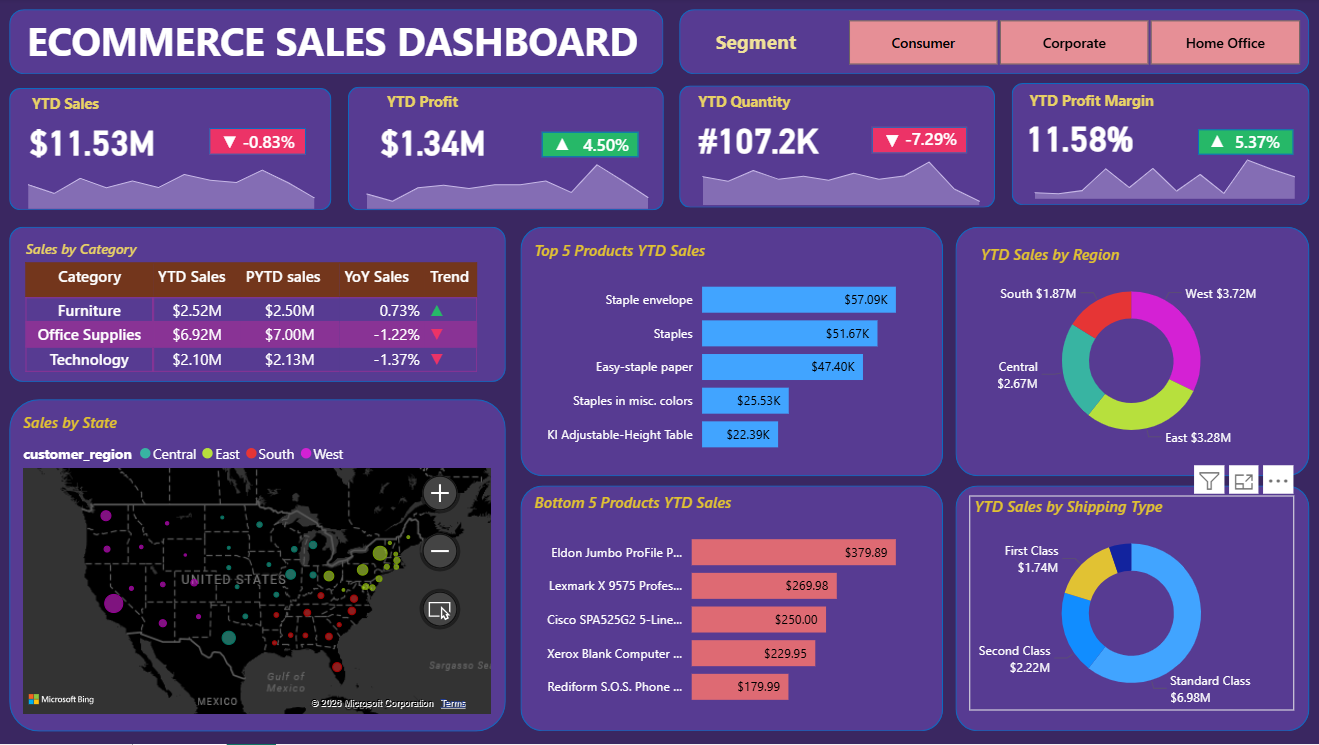

What the dashboard file says about the page in this screenshot:
{"tool":"powerbi","page":{"name":"Page 1","canvas":[1280,720],"ordinal":0},"visuals":[{"type":"shape","box":[11.1,87.2,310.8,118],"z":0},{"type":"shape","box":[11.1,11.1,631.5,62.7],"z":1000},{"type":"card","fields":{"Values":["Measures (2).YTD Sales"]},"box":[18.7,109.8,143.6,55.5],"z":2000},{"type":"textbox","box":[23.3,11.1,602,67.6],"z":3000},{"type":"areaChart","fields":{"Category":["Calender.Month"],"Y":["Sum(ecommerce_orders.sales_per_order)"]},"box":[14.7,146.2,305.9,62.7],"z":4000},{"type":"shape","box":[204,125.3,93.4,25.8],"z":5000},{"type":"card","fields":{"Values":["Measures (2).YoY Sales"]},"box":[223.6,126.6,76.2,27],"z":6000},{"type":"card","fields":{"Values":["Measures (2).Sales Icon"]},"box":[204,125.3,39.3,24.6],"z":7000},{"type":"textbox","box":[27.2,86.9,82,30.2],"z":8000},{"type":"shape","box":[337.5,86,304.7,119.2],"z":9000},{"type":"card","fields":{"Values":["Measures (2).YTD Profit"]},"box":[348.9,109.3,142.5,55.3],"z":10000},{"type":"areaChart","fields":{"Category":["Calender.Month"],"Y":["Sum(ecommerce_orders.profit_per_order)"]},"box":[341.6,146.2,301,62.7],"z":11000},{"type":"shape","box":[524.6,129,93.4,24.6],"z":12000},{"type":"card","fields":{"Values":["Measures (2).YoY Profit"]},"box":[549.2,129,76.2,27],"z":13000},{"type":"card","fields":{"Values":["Measures (2).Profit Icon"]},"box":[524.6,127.8,39.3,25.8],"z":14000},{"type":"textbox","box":[370,86.1,94.1,30.2],"z":15000},{"type":"shape","box":[657.7,84.8,304.7,118],"z":16000},{"type":"card","fields":{"Values":["Measures (2).YTD_Qty_Concat"]},"box":[662.2,108.1,143.8,55.3],"z":17000},{"type":"areaChart","fields":{"Category":["Calender.Month"],"Y":["Sum(ecommerce_orders.order_quantity)"]},"box":[665.9,142.5,296.1,62.7],"z":18000},{"type":"shape","box":[842.9,124.1,92.1,25.8],"z":19000},{"type":"card","fields":{"Values":["Measures (2).YoY Quantity"]},"box":[862.5,122.9,76.2,25.8],"z":20000},{"type":"card","fields":{"Values":["Measures (2).Quantity Icon"]},"box":[842.9,124.1,39.3,24.6],"z":21000},{"type":"textbox","box":[670.5,86.1,109.8,30.2],"z":22000},{"type":"shape","box":[978,82.3,287.5,118],"z":23000},{"type":"card","fields":{"Values":["Measures (2).YTD_profit_margin"]},"box":[972.9,105.6,143.6,55.5],"z":24000},{"type":"areaChart","fields":{"Category":["Calender.Month"],"Y":["Measures (2).Profit Margin"]},"box":[986.6,136.4,278.9,62.7],"z":25000},{"type":"shape","box":[1158.6,126.6,92.1,24.6],"z":26000},{"type":"card","fields":{"Values":["Measures (2).YoY Profit Margin"]},"box":[1177,126.6,76.2,27],"z":27000},{"type":"card","fields":{"Values":["Measures (2).Profit_Margin_Icon"]},"box":[1158.6,124.1,36.9,25.8],"z":28000},{"type":"textbox","box":[990.3,84.1,150.8,29],"z":29000},{"type":"shape","box":[11.1,221.2,479.2,149.9],"z":30000},{"type":"pivotTable","title":"Sales by Category","fields":{"Rows":["ecommerce_orders.category_name"],"Values":["Measures (2).YTD Sales","Measures (2).PYTD sales","Measures (2).YoY Sales","Measures (2).Sales Icon"]},"box":[22.1,233.4,454.6,137.6],"z":31000},{"type":"shape","box":[11.1,387,479.2,320.7],"z":32000},{"type":"map","title":"Sales by State","fields":{"Y":["us_state_long_lat.latitude"],"X":["us_state_long_lat.longitude"],"Size":["Measures (2).YTD Sales"],"Series":["ecommerce_orders.customer_region"]},"box":[19.7,399.3,462,297.3],"z":33000},{"type":"shape","box":[503.7,221.2,407.9,240.8],"z":34000},{"type":"shape","box":[503.7,470.6,407.9,237.1],"z":35000},{"type":"barChart","title":"Top 5 Products YTD Sales","fields":{"Category":["ecommerce_orders.product_name"],"Y":["Measures (2).YTD Sales"]},"box":[512.3,233.4,401.8,219.9],"z":36000},{"type":"barChart","title":"Bottom 5 Products YTD Sales","fields":{"Category":["ecommerce_orders.product_name"],"Y":["Measures (2).YTD Sales"]},"box":[512.3,476.7,401.8,219.9],"z":37000},{"type":"shape","box":[923.9,221.2,341.6,240.8],"z":38000},{"type":"shape","box":[923.9,470.6,341.6,237.1],"z":39000},{"type":"donutChart","title":"YTD Sales by Region","fields":{"Category":["ecommerce_orders.customer_region"],"Y":["Measures (2).YTD Sales"]},"box":[943.6,235.9,301,207.6],"z":40000},{"type":"donutChart","title":"YTD Sales by Shipping Type","fields":{"Y":["Measures (2).YTD Sales"],"Category":["ecommerce_orders.shipping_type"]},"box":[937.5,480.4,313.3,207.6],"z":41000},{"type":"shape","box":[657.3,11.1,608.2,62.7],"z":42000},{"type":"slicer","fields":{"Values":["ecommerce_orders.customer_segment"]},"box":[794.9,14.7,485.3,56.5],"z":43000},{"type":"textbox","box":[688,24.6,92.1,41.8],"z":44000}]}

Visuals, with their boxes in screenshot pixels (x1, y1, x2, y2), scaled from the page's 1280x720 canvas onto the 1319x745 screenshot:
shape: locate(11, 90, 332, 212)
shape: locate(11, 11, 662, 76)
card - Measures (2).YTD Sales: locate(19, 114, 167, 171)
textbox: locate(24, 11, 644, 81)
areaChart - Calender.Month x Sum(ecommerce_orders.sales_per_order): locate(15, 151, 330, 216)
shape: locate(210, 130, 306, 156)
card - Measures (2).YoY Sales: locate(230, 131, 309, 159)
card - Measures (2).Sales Icon: locate(210, 130, 251, 155)
textbox: locate(28, 90, 113, 121)
shape: locate(348, 89, 662, 212)
card - Measures (2).YTD Profit: locate(360, 113, 506, 170)
areaChart - Calender.Month x Sum(ecommerce_orders.profit_per_order): locate(352, 151, 662, 216)
shape: locate(541, 133, 637, 159)
card - Measures (2).YoY Profit: locate(566, 133, 644, 161)
card - Measures (2).Profit Icon: locate(541, 132, 581, 159)
textbox: locate(381, 89, 478, 120)
shape: locate(678, 88, 992, 210)
card - Measures (2).YTD_Qty_Concat: locate(682, 112, 831, 169)
areaChart - Calender.Month x Sum(ecommerce_orders.order_quantity): locate(686, 147, 991, 212)
shape: locate(869, 128, 963, 155)
card - Measures (2).YoY Quantity: locate(889, 127, 967, 154)
card - Measures (2).Quantity Icon: locate(869, 128, 909, 154)
textbox: locate(691, 89, 804, 120)
shape: locate(1008, 85, 1304, 207)
card - Measures (2).YTD_profit_margin: locate(1003, 109, 1151, 167)
areaChart - Calender.Month x Measures (2).Profit Margin: locate(1017, 141, 1304, 206)
shape: locate(1194, 131, 1289, 156)
card - Measures (2).YoY Profit Margin: locate(1213, 131, 1291, 159)
card - Measures (2).Profit_Margin_Icon: locate(1194, 128, 1232, 155)
textbox: locate(1020, 87, 1176, 117)
shape: locate(11, 229, 505, 384)
"Sales by Category" pivotTable: locate(23, 242, 491, 384)
shape: locate(11, 400, 505, 732)
"Sales by State" map: locate(20, 413, 496, 721)
shape: locate(519, 229, 939, 478)
shape: locate(519, 487, 939, 732)
"Top 5 Products YTD Sales" barChart: locate(528, 242, 942, 469)
"Bottom 5 Products YTD Sales" barChart: locate(528, 493, 942, 721)
shape: locate(952, 229, 1304, 478)
shape: locate(952, 487, 1304, 732)
"YTD Sales by Region" donutChart: locate(972, 244, 1283, 459)
"YTD Sales by Shipping Type" donutChart: locate(966, 497, 1289, 712)
shape: locate(677, 11, 1304, 76)
slicer - ecommerce_orders.customer_segment: locate(819, 15, 1318, 74)
textbox: locate(709, 25, 804, 69)
